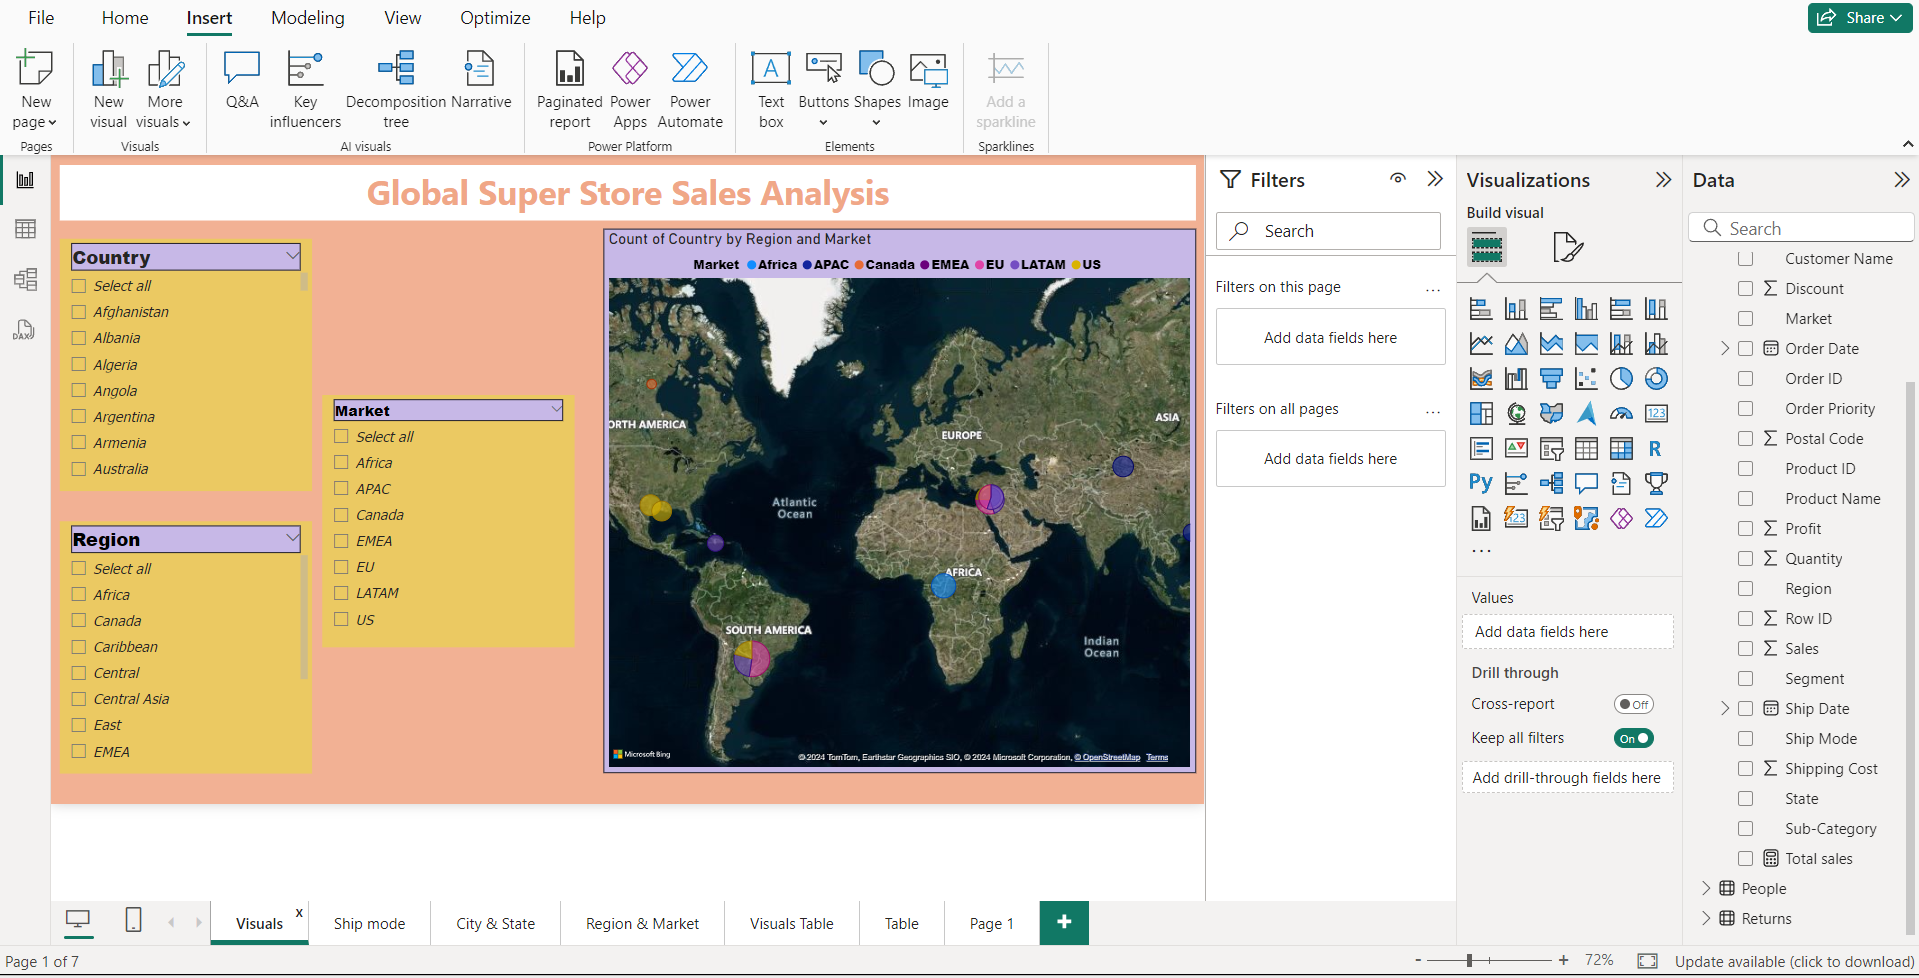

The page's visual inventory and layout, read from the dashboard file:
{"tool":"powerbi","page":{"name":"Visuals ","canvas":[1280,720],"ordinal":0},"visuals":[{"type":"slicer","fields":{"Values":["Orders.Country"]},"box":[9.6,93.3,279.9,279.9],"z":0},{"type":"slicer","fields":{"Values":["Orders.Region"]},"box":[9.6,406.2,279.9,279.9],"z":1},{"type":"slicer","fields":{"Values":["Orders.Market"]},"box":[300.7,266,279.9,279.9],"z":2},{"type":"map","fields":{"Category":["Orders.Region"],"Series":["Orders.Market"],"Size":["CountNonNull(Orders.Country)"]},"box":[613.4,82.3,657.3,603.8],"z":3},{"type":"textbox","box":[9.6,11,1261.1,61.7],"z":4}]}

Visuals, with their boxes on the page's 1280x720 design canvas (x1, y1, x2, y2). These are canvas units, not pixel positions in the 1919x978 screenshot, which may show the page scaled, cropped or inside an application window:
slicer - Orders.Country: 10,93,290,373
slicer - Orders.Region: 10,406,290,686
slicer - Orders.Market: 301,266,581,546
map - Orders.Region x Orders.Market: 613,82,1271,686
textbox: 10,11,1271,73
